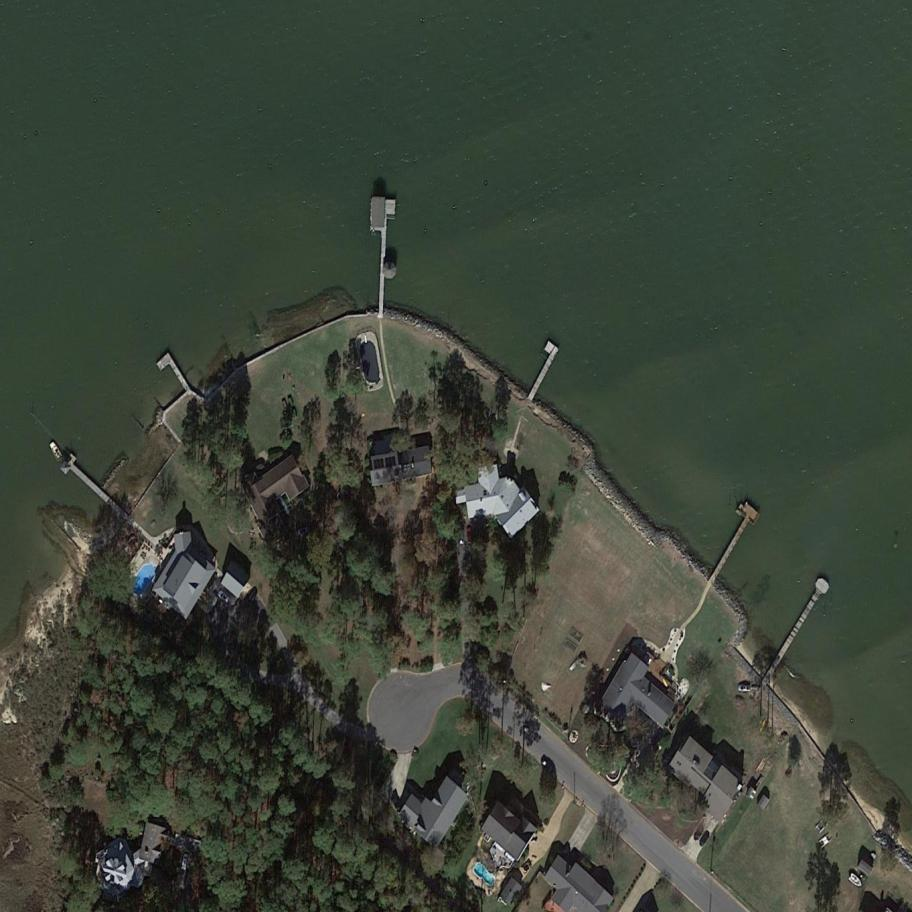ship: (843, 869, 870, 894), (47, 440, 64, 463)
small-vehicle: (811, 828, 838, 854), (691, 823, 708, 843), (696, 829, 712, 849), (737, 684, 753, 694)
